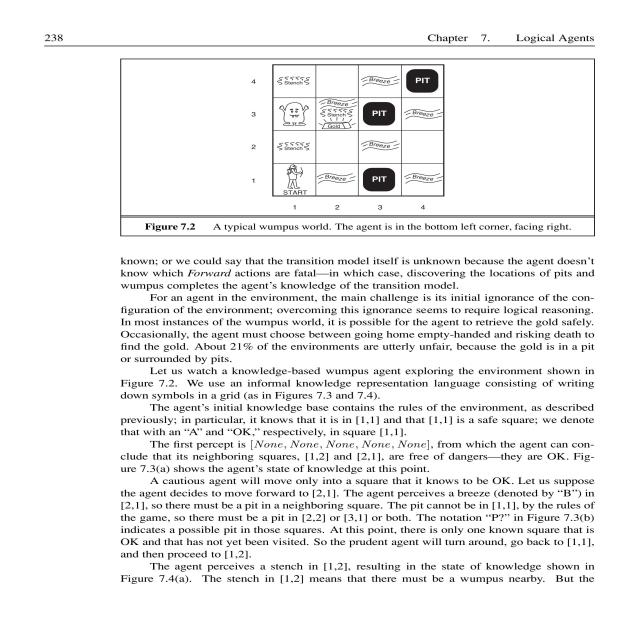diagram: (123, 58, 610, 244)
